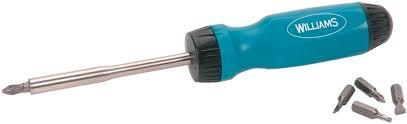screwdriver: (28, 0, 391, 95), (353, 74, 385, 102), (351, 99, 391, 121), (332, 84, 353, 112), (1, 78, 29, 95), (391, 82, 405, 114)
